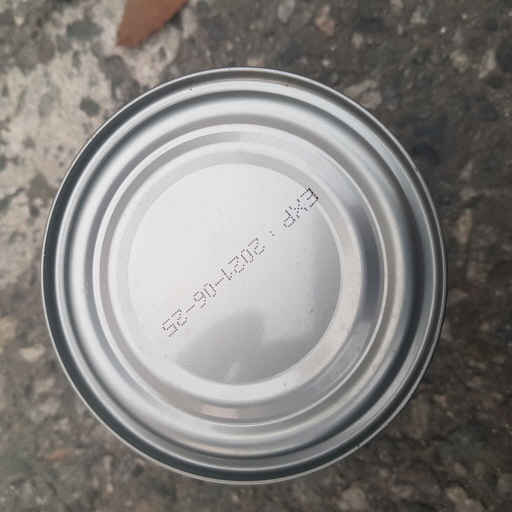Metal_1: (34, 69, 448, 483)
